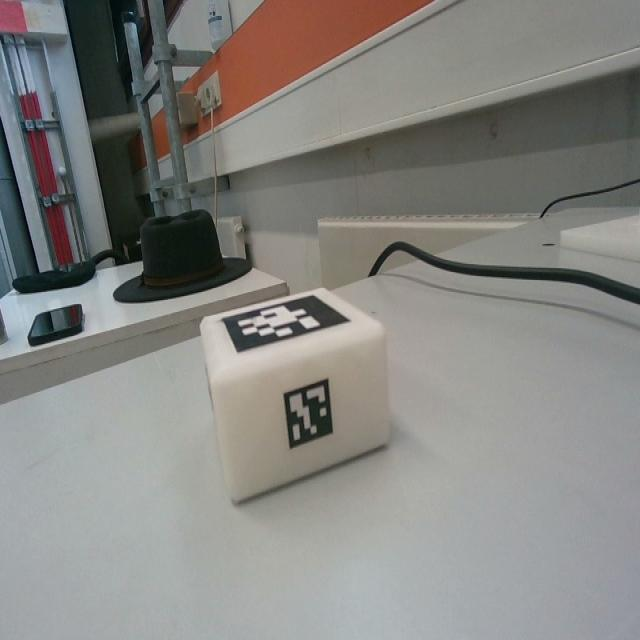Cube: (202, 280, 390, 505)
